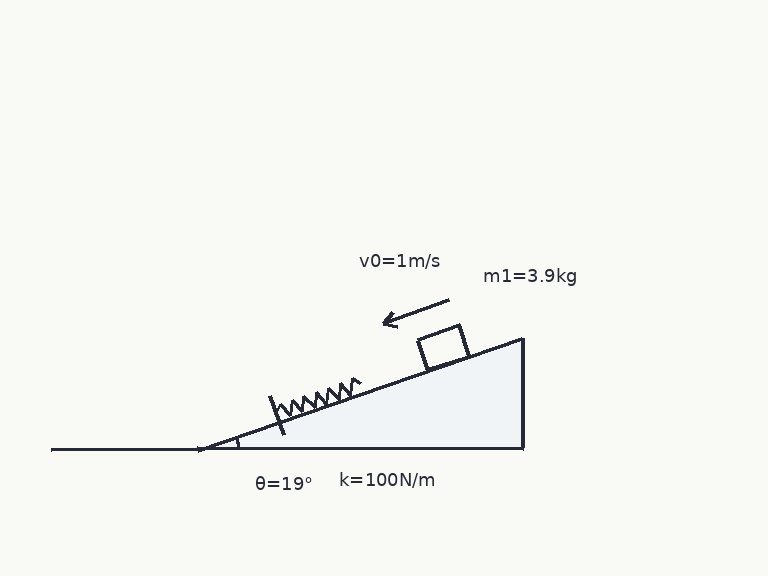block: (415, 323, 471, 372)
ramp: (196, 335, 524, 451)
spring: (274, 377, 362, 417)
